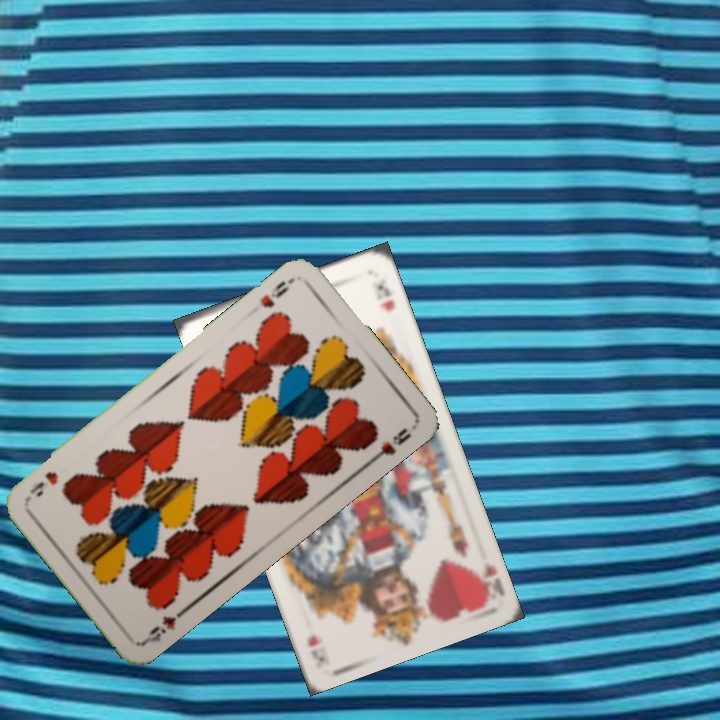H9: (140, 603, 190, 646), (255, 276, 292, 311)
HK: (479, 558, 507, 598)
